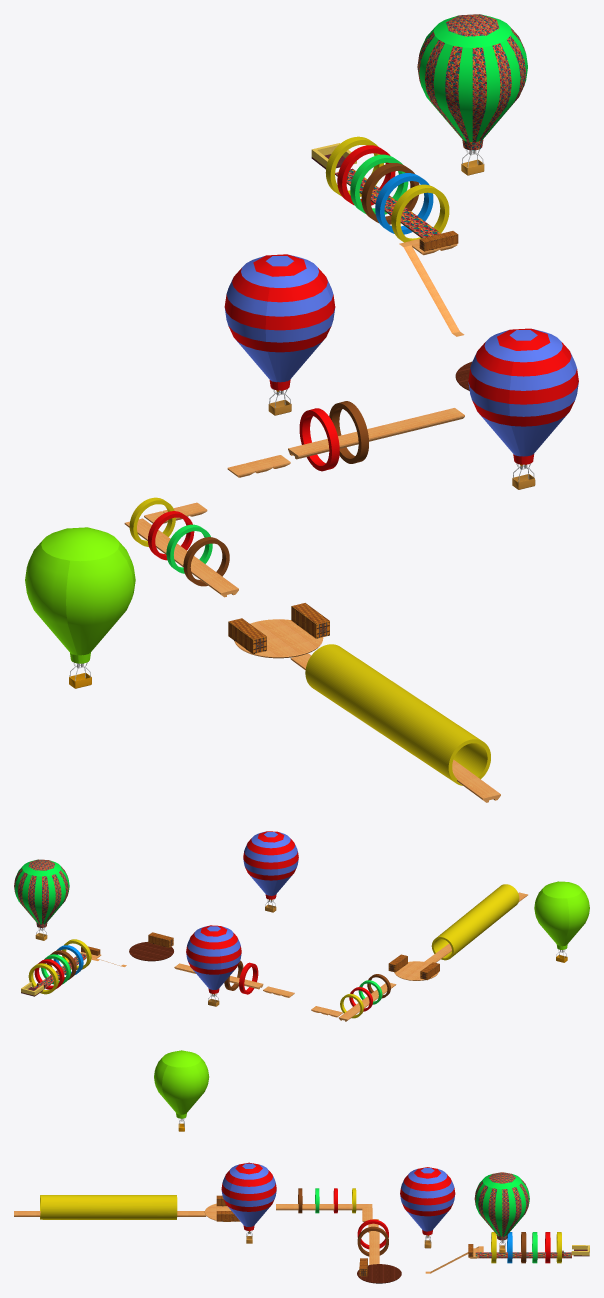
File: LEVEL 16.fbx
3 views of the same model, one above another, from view 1: azimuth 30°, elevation 25°; view 2: azimuth 150°, elevation 25°; view 3: azimuth 270°, elevation 25° (orthographic). The views are drawn at different scales.
Visible parts, largest first — view 1: ballon_3, Ballon_1, Ballon_, Ballon_2, yellow_ring__30_, RoadElement__1_, Platform_3, RoadElement__3_, blue__2_, yellow_ring__36_, red_1, blue__1_ (+2 smaller); view 2: ballon_3, Ballon_, Ballon_2, Ballon_1, yellow_ring__30_, Platform_4, Platform_3, RoadElement__3_, yellow_ring__35_, blue__2_, RoadElement__1_, red__1_ (+4 smaller); view 3: yellow_ring__30_, Ballon_2, Ballon_, Ballon_1, ballon_3, Platform_4, RoadElement__3_, RoadElement__2_, RoadElement__1_, red_1.
Part boxes in pixels (x1,y1,x2,y2): ballon_3: (417,14,527,175); Ballon_1: (468,328,578,489); Ballon_: (25,527,135,688); Ballon_2: (224,254,335,415); yellow_ring__30_: (305,644,490,785); RoadElement__1_: (288,408,464,459); Platform_3: (234,619,323,658); RoadElement__3_: (124,518,238,597); blue__2_: (299,408,339,471); yellow_ring__36_: (391,184,449,242); red_1: (329,401,368,463); blue__1_: (375,173,433,234); ballon_3: (14,859,69,940); Ballon_: (534,881,589,962); Ballon_2: (186,925,241,1006); Ballon_1: (243,831,298,912); yellow_ring__30_: (431,884,519,960); Platform_4: (129,942,173,961); Platform_3: (394,961,438,980); RoadElement__3_: (338,983,396,1021); yellow_ring__35_: (28,963,58,994); blue__2_: (239,962,258,994); RoadElement__1_: (174,963,263,989); red__1_: (34,959,64,989); yellow_ring__30_: (40,1195,177,1219); Ballon_2: (400,1167,455,1248); Ballon_: (154,1050,209,1131); Ballon_1: (221,1162,276,1243); ballon_3: (474,1172,529,1253); Platform_4: (357,1264,401,1283); RoadElement__3_: (276,1204,372,1210); RoadElement__2_: (475,1252,571,1258); RoadElement__1_: (369,1232,379,1264); red_1: (357,1226,388,1256).
Bounding box in the file's own units: 11680 × 4371 × 14404.
25 materials, 11 textured.
